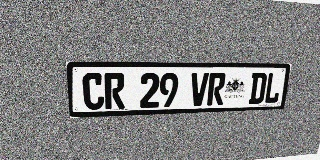2: (140, 73, 160, 108)
9: (159, 73, 179, 107)
C: (82, 73, 104, 110)
D: (248, 73, 268, 104)
L: (263, 73, 283, 104)
R: (104, 73, 125, 109), (207, 73, 226, 106)
V: (189, 73, 209, 106)
